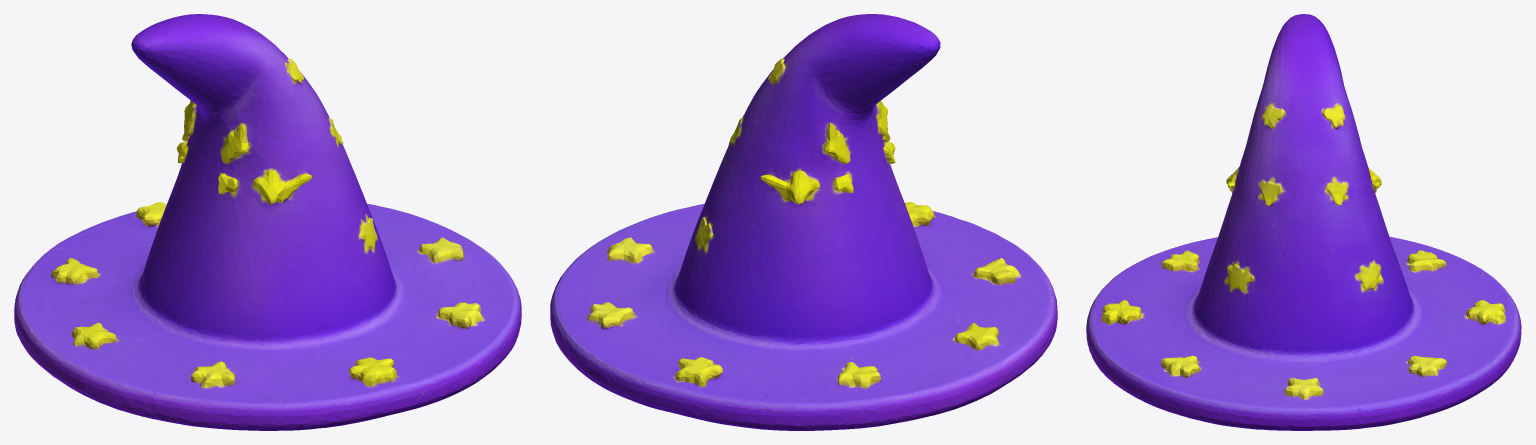
The model's file is hat_wizard.glb.
3 views of the same model, side by side, from view 1: azimuth 30°, elevation 25°; view 2: azimuth 150°, elevation 25°; view 3: azimuth 270°, elevation 25° (orthographic). The views are drawn at different scales.
Parts seen in each view (by area): view 1: world; view 2: world; view 3: world.
Boxes of the visible parts, box(x1,y1,x2,y2) form: world: box(14, 14, 521, 430); world: box(550, 14, 1057, 430); world: box(1086, 14, 1521, 430).
Bounding box in the file's own units: 0.9971 × 0.7645 × 0.9974.
1 material, 1 textured.
